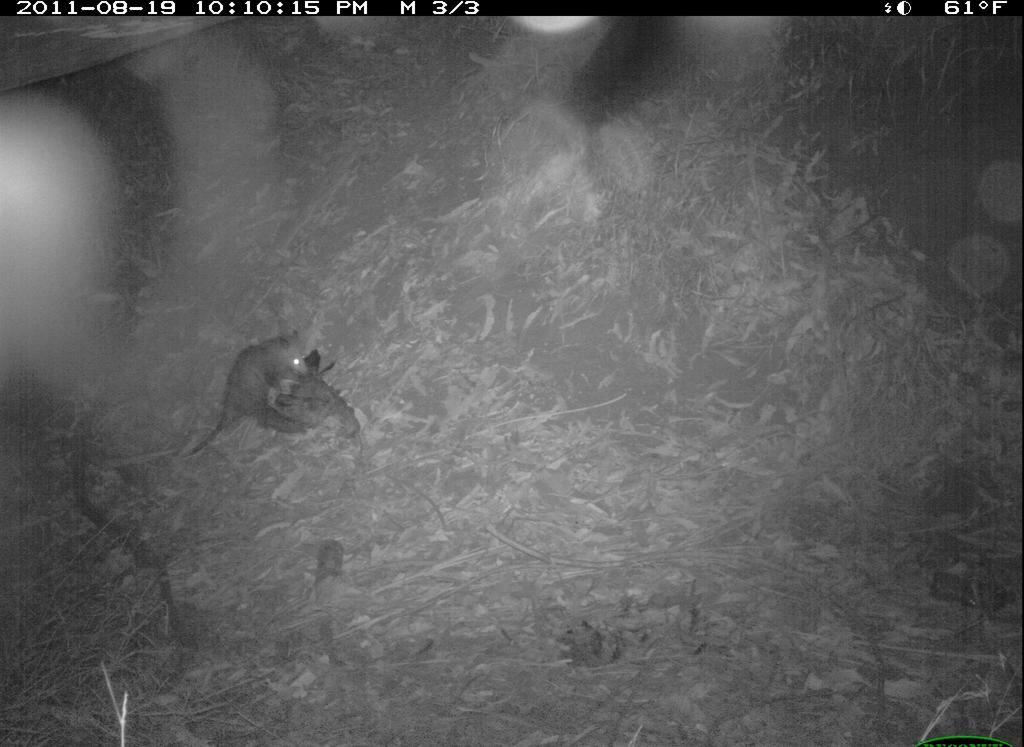opossum: (176, 322, 319, 463)
